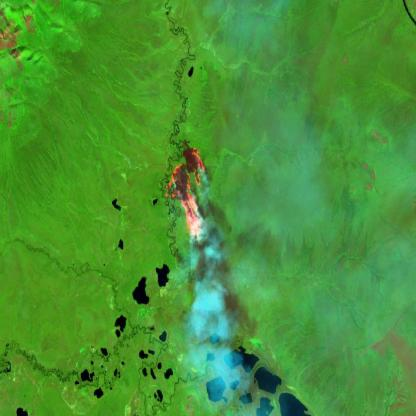fire: (162, 143, 209, 245)
